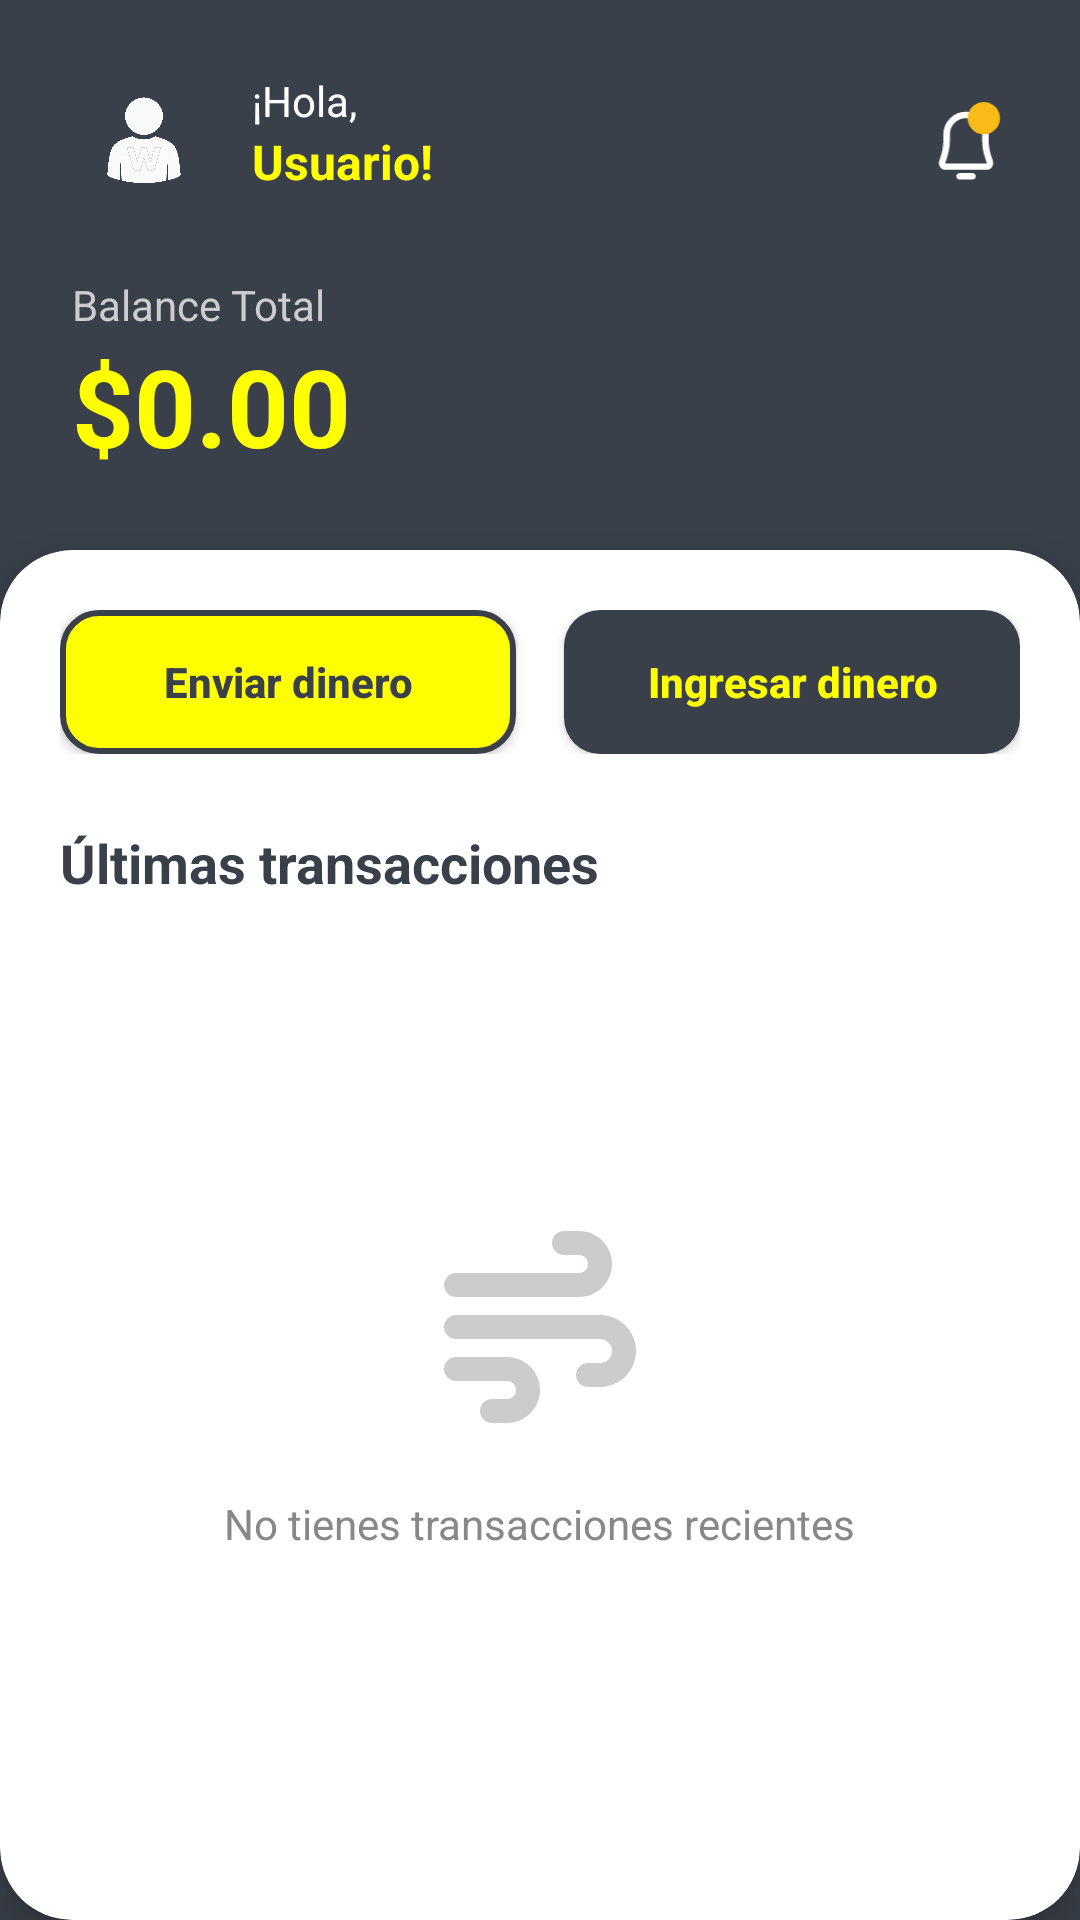

Screen size 1080px x 1920px. Icon name, then its box in pixels as bbox=(x1, y1, x2, y2):
Foto de perfil: bbox=(107, 97, 181, 183)
Notificaciones: bbox=(938, 102, 1001, 180)
